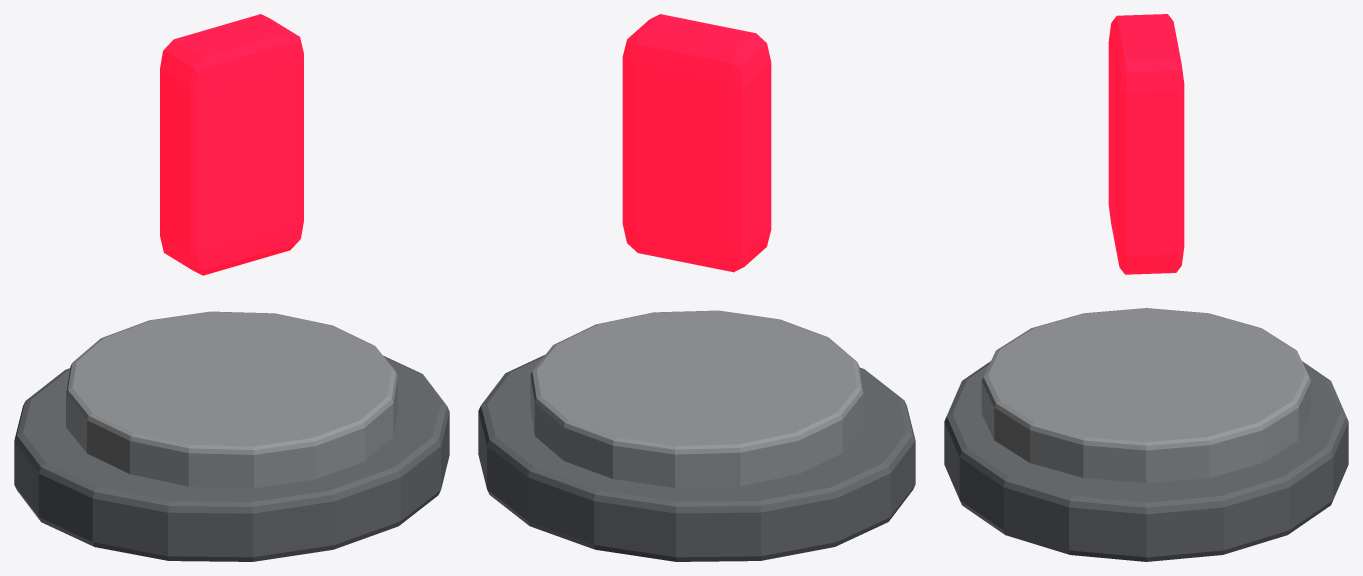
File: Refined_MagicStone_Tablet.fbx
3 renders of one model, left to right at view 1: azimuth 30°, elevation 25°; view 2: azimuth 150°, elevation 25°; view 3: azimuth 270°, elevation 25°, orthographic.
Visible parts, largest first — view 1: Pedestal_Upper.005, Pedestal_Lower.005, Core.005; view 2: Pedestal_Upper.005, Pedestal_Lower.005, Core.005; view 3: Pedestal_Upper.005, Pedestal_Lower.005, Core.005.
Part boxes in pixels (x1,y1,x2,y2): Pedestal_Upper.005: (66, 311, 397, 488); Pedestal_Lower.005: (14, 355, 449, 561); Core.005: (160, 14, 303, 275); Pedestal_Upper.005: (530, 310, 863, 487); Pedestal_Lower.005: (478, 355, 915, 561); Core.005: (622, 14, 771, 272); Pedestal_Upper.005: (981, 308, 1311, 483); Pedestal_Lower.005: (944, 361, 1348, 561); Core.005: (1108, 14, 1184, 274).
Size of the model in its own units: 1.76 by 1.93 by 1.62.
